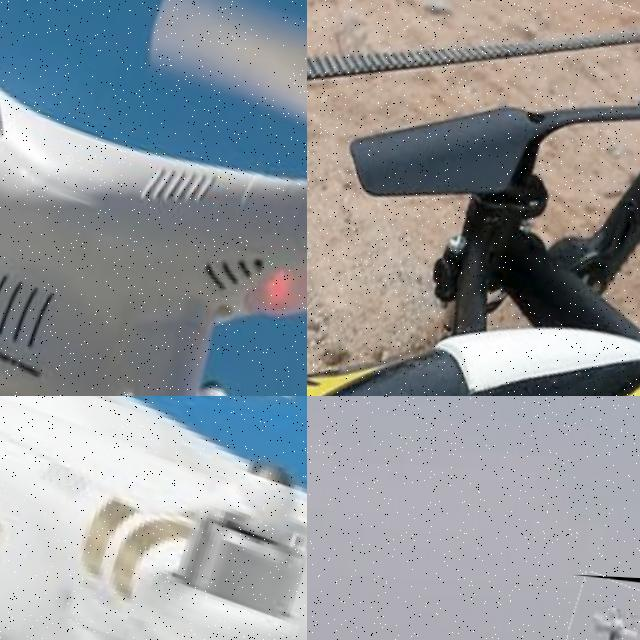0: (566, 575, 640, 640)
drone: (307, 0, 640, 396), (0, 0, 307, 396), (0, 396, 307, 640)
